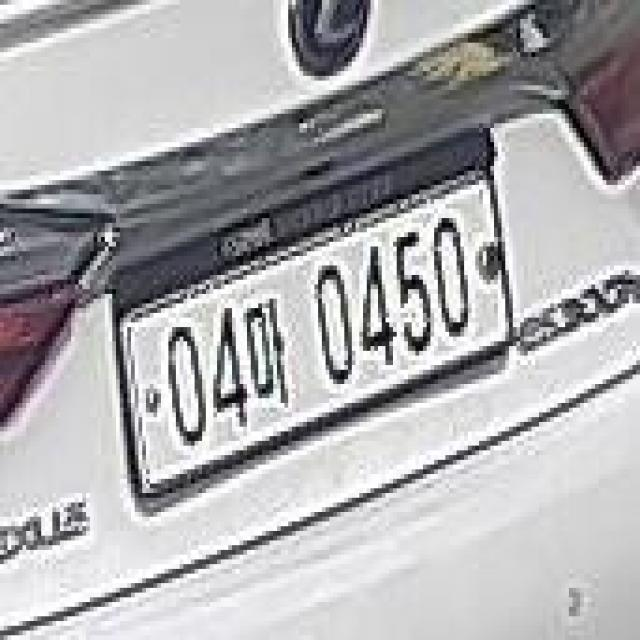illegal_plate: (119, 151, 517, 509)
